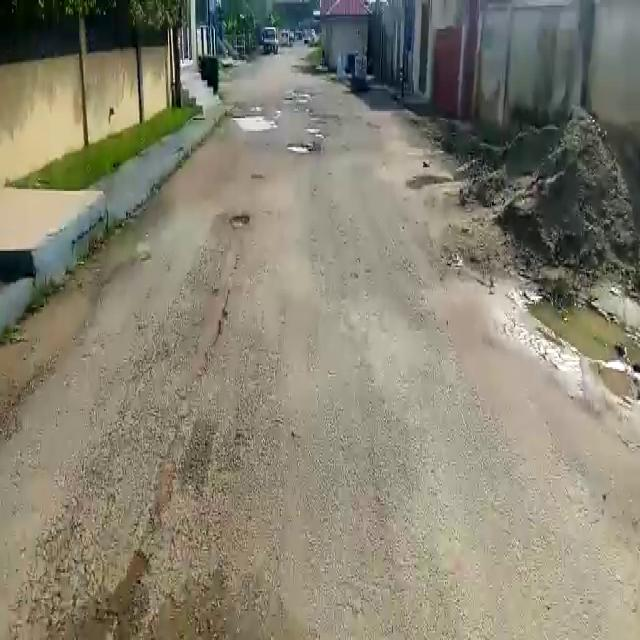Pothole: (228, 115, 278, 133), (287, 141, 321, 155), (227, 212, 251, 230)
